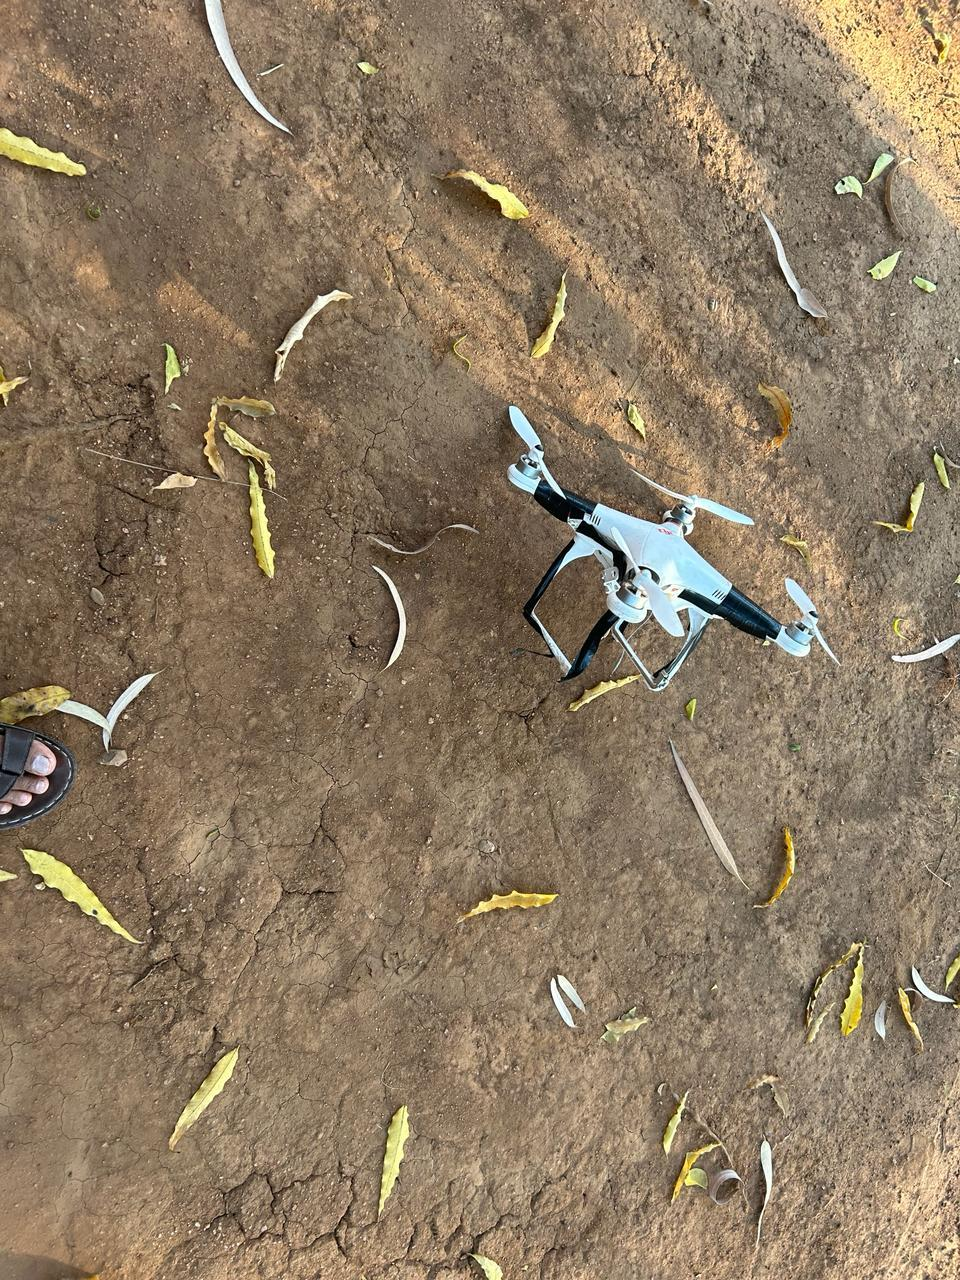drone: (499, 417, 846, 693)
